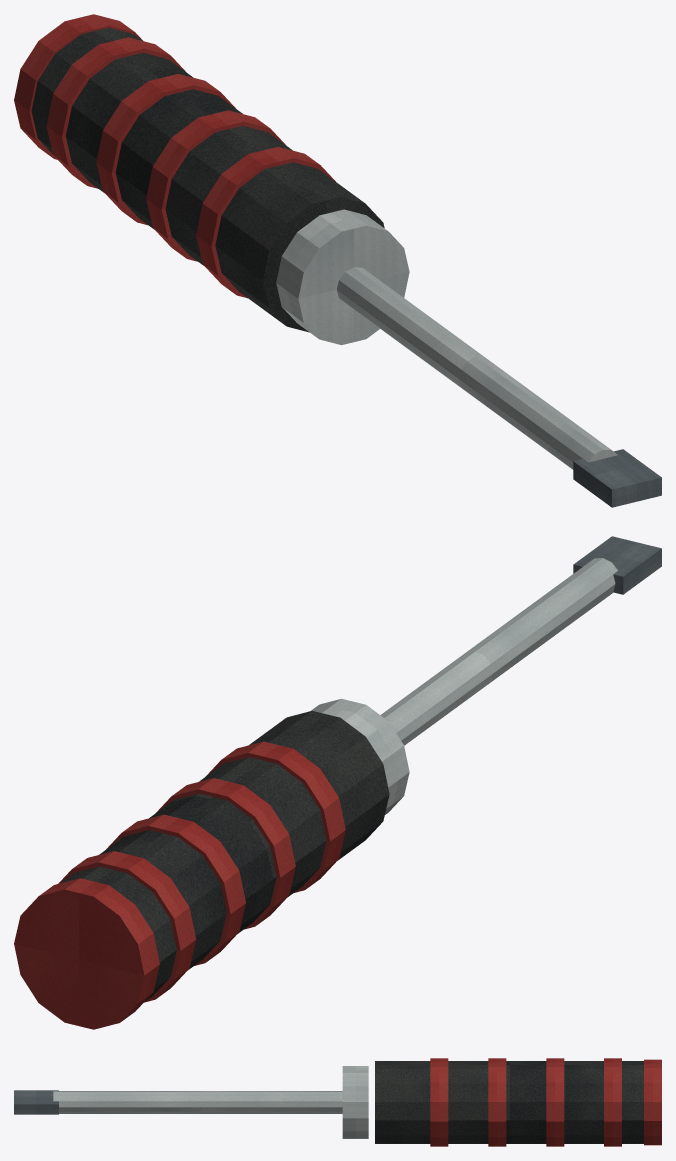
Rendered from PROJECT_Z_Pickup_Screwdriver.glb.
3 views of the same model, one above another, from view 1: azimuth 30°, elevation 25°; view 2: azimuth 150°, elevation 25°; view 3: azimuth 270°, elevation 25° (orthographic). The views are drawn at different scales.
Visible parts, largest first — view 1: SCREWDRIVER_SoftGrip, SCREWDRIVER_Shaft, SCREWDRIVER_Collar, SCREWDRIVER_GripFerrule_3, SCREWDRIVER_GripFerrule_1, SCREWDRIVER_GripFerrule_2, SCREWDRIVER_GripFerrule_0, SCREWDRIVER_GripButt, SCREWDRIVER_FlatBit; view 2: SCREWDRIVER_SoftGrip, SCREWDRIVER_GripButt, SCREWDRIVER_Shaft, SCREWDRIVER_GripFerrule_1, SCREWDRIVER_GripFerrule_3, SCREWDRIVER_GripFerrule_2, SCREWDRIVER_GripFerrule_0, SCREWDRIVER_Collar, SCREWDRIVER_FlatBit; view 3: SCREWDRIVER_SoftGrip, SCREWDRIVER_Shaft, SCREWDRIVER_Collar, SCREWDRIVER_GripFerrule_1, SCREWDRIVER_GripFerrule_2, SCREWDRIVER_GripFerrule_3, SCREWDRIVER_GripFerrule_0, SCREWDRIVER_GripButt, SCREWDRIVER_FlatBit.
Boxes of the visible parts, left/top/right/bottom form: SCREWDRIVER_SoftGrip: left=31, top=27, right=384, bottom=332; SCREWDRIVER_Shaft: left=336, top=267, right=617, bottom=469; SCREWDRIVER_Collar: left=276, top=209, right=409, bottom=345; SCREWDRIVER_GripFerrule_3: left=196, top=147, right=335, bottom=298; SCREWDRIVER_GripFerrule_1: left=96, top=74, right=235, bottom=225; SCREWDRIVER_GripFerrule_2: left=146, top=110, right=285, bottom=261; SCREWDRIVER_GripFerrule_0: left=46, top=37, right=186, bottom=188; SCREWDRIVER_GripButt: left=14, top=14, right=142, bottom=159; SCREWDRIVER_FlatBit: left=573, top=449, right=661, bottom=507; SCREWDRIVER_SoftGrip: left=60, top=711, right=389, bottom=1001; SCREWDRIVER_GripButt: left=14, top=878, right=159, bottom=1029; SCREWDRIVER_Shaft: left=380, top=558, right=617, bottom=745; SCREWDRIVER_GripFerrule_1: left=106, top=814, right=245, bottom=965; SCREWDRIVER_GripFerrule_3: left=205, top=741, right=345, bottom=892; SCREWDRIVER_GripFerrule_2: left=155, top=778, right=295, bottom=929; SCREWDRIVER_GripFerrule_0: left=58, top=851, right=196, bottom=1002; SCREWDRIVER_Collar: left=311, top=698, right=409, bottom=814; SCREWDRIVER_FlatBit: left=573, top=536, right=661, bottom=594; SCREWDRIVER_SoftGrip: left=375, top=1061, right=643, bottom=1143; SCREWDRIVER_Shaft: left=53, top=1091, right=342, bottom=1113; SCREWDRIVER_Collar: left=342, top=1066, right=368, bottom=1138; SCREWDRIVER_GripFerrule_1: left=546, top=1058, right=564, bottom=1146; SCREWDRIVER_GripFerrule_2: left=488, top=1058, right=506, bottom=1146; SCREWDRIVER_GripFerrule_3: left=430, top=1058, right=448, bottom=1146; SCREWDRIVER_GripFerrule_0: left=604, top=1058, right=621, bottom=1146; SCREWDRIVER_GripButt: left=644, top=1059, right=661, bottom=1145; SCREWDRIVER_FlatBit: left=14, top=1090, right=58, bottom=1114.
Size of the model in its own units: 0.07 by 0.0682 by 0.5035.
Materials: 4 (4 with a texture image).
